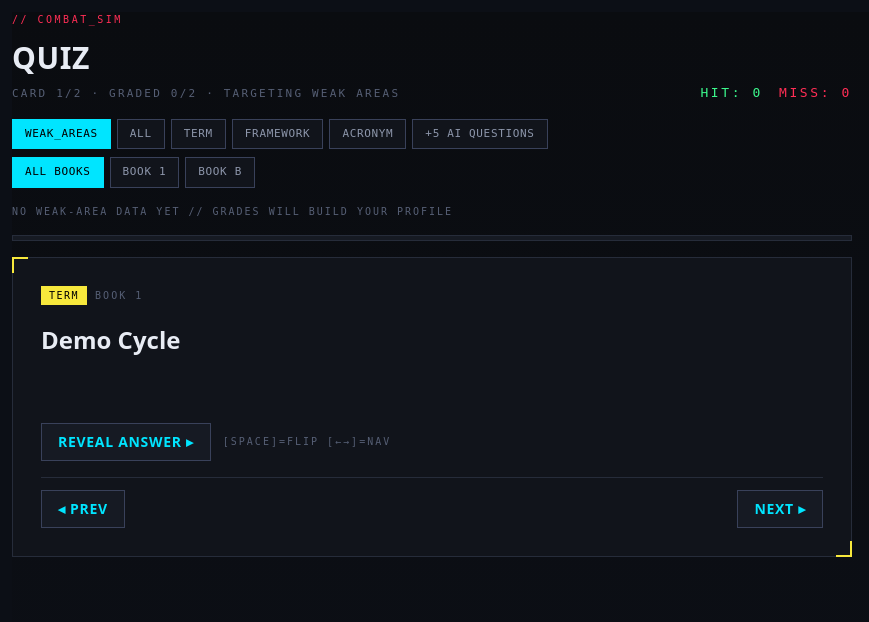
Test: flip reveals the answer, and HIT advances the counter
Check: the text "Demo Cycle" is shown, box [41,322,180,356]
Click the button "REVEAL ANSWER ▸": click(126, 442) [41,422,211,460]
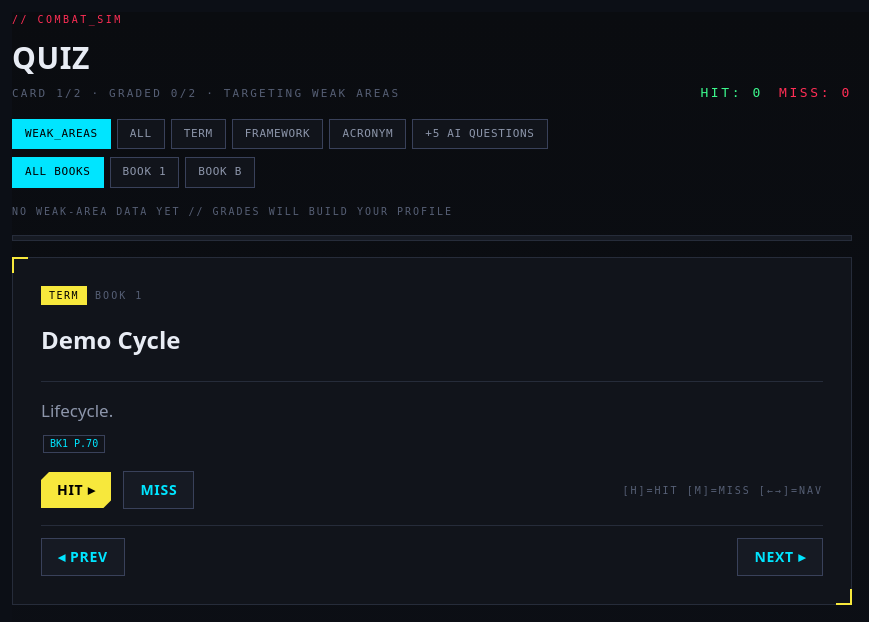
Click the button "HIT ▸": click(76, 490) [41,472,111,508]
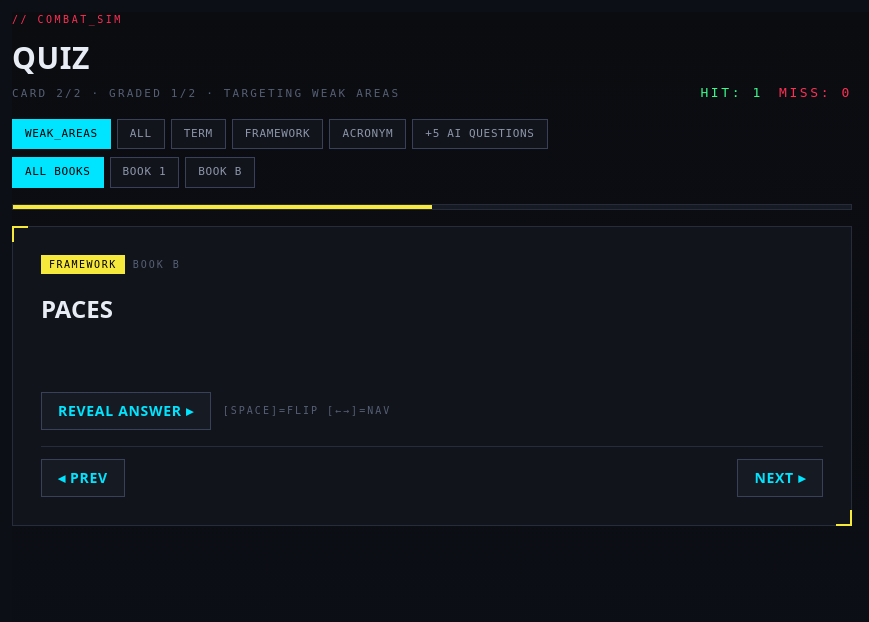
Check: the text "HIT: 1" is shown, box [700,83,763,102]
